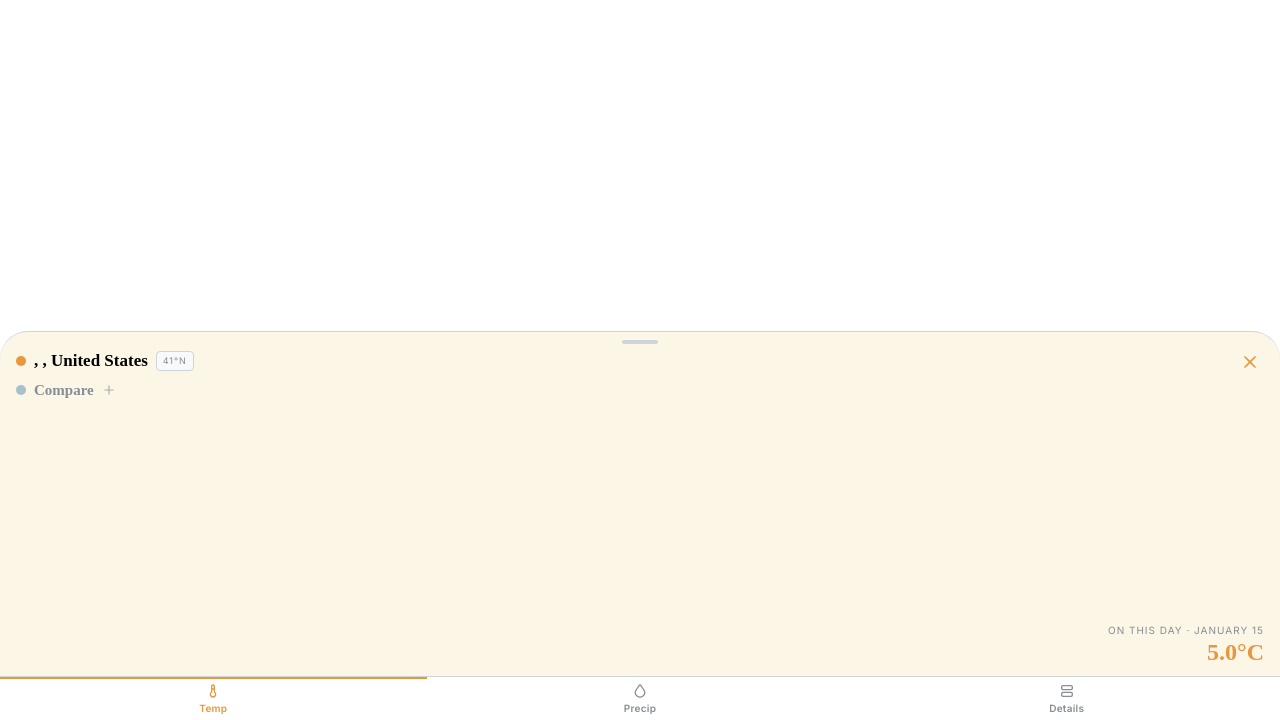
Test case: MobileCityDrawer › renders all five Details cards when Details is active
The width and height of the screenshot is (1280, 720).
Step 1. Click the button "Details" → coordinates (1067, 698), box [853, 677, 1279, 719]
(page scrolled)
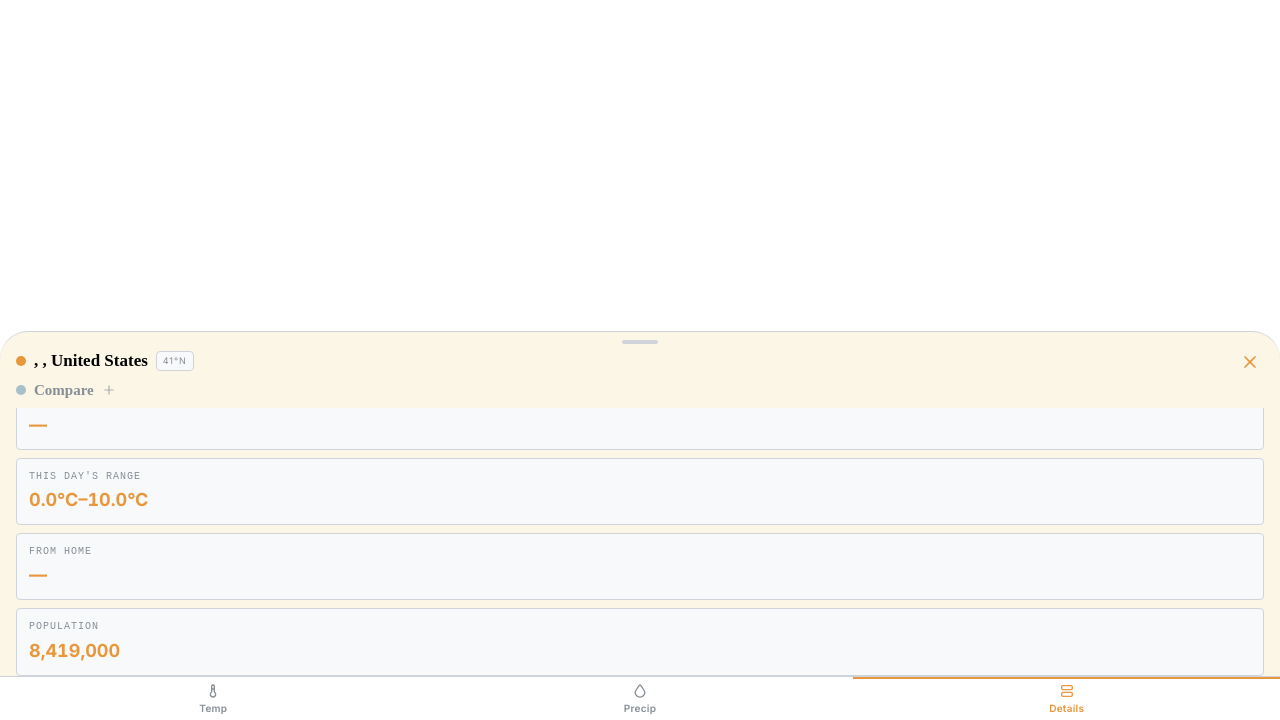
Result: the text "This day's range" is shown at [29, 471, 141, 482]
Result: the text "From home" is shown at [29, 546, 92, 557]
Result: the text "Population" is shown at [29, 621, 99, 632]
